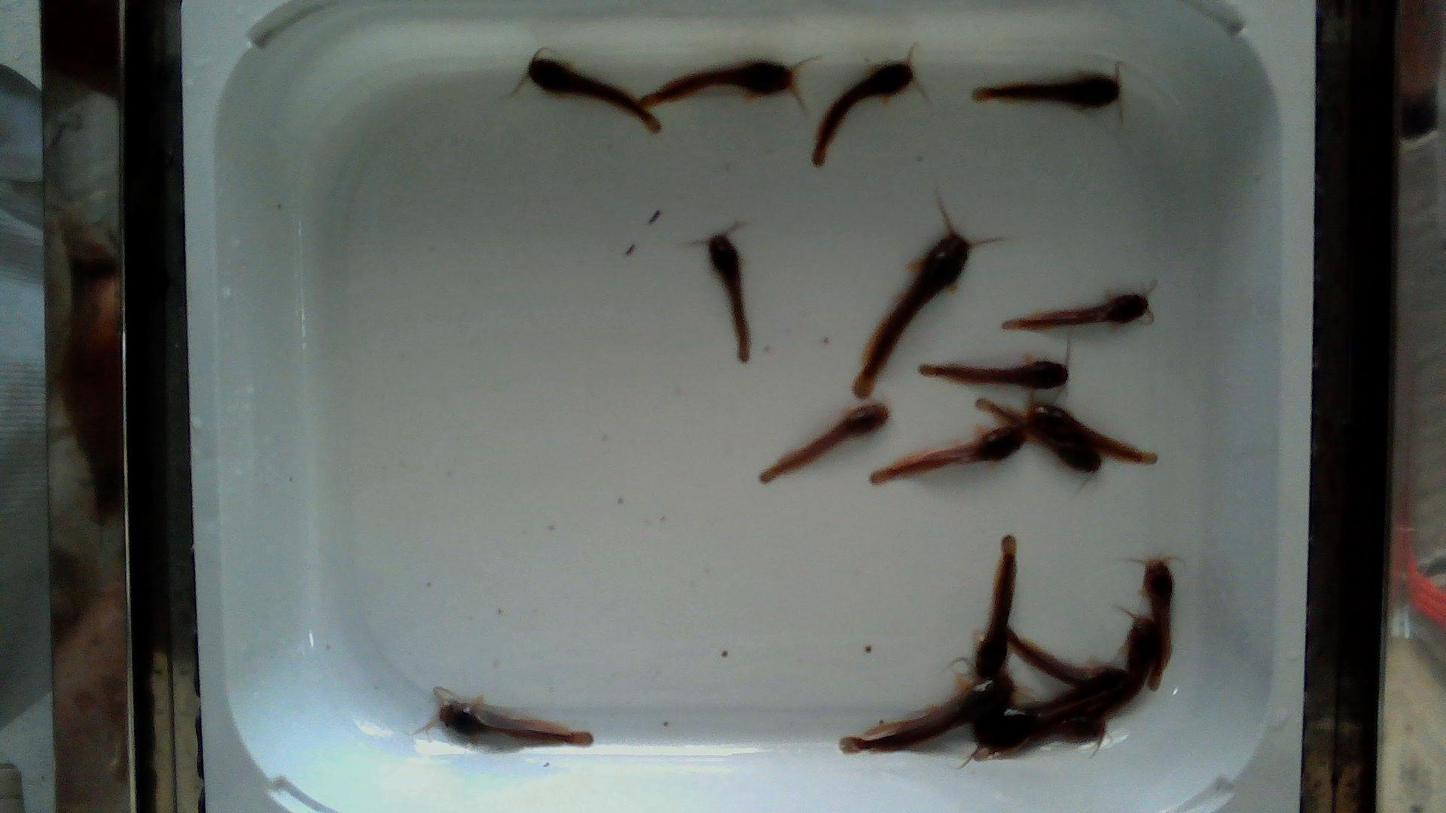lele: (853, 227, 974, 397), (837, 673, 1019, 752), (971, 676, 1131, 750), (813, 59, 913, 166), (527, 53, 659, 132), (760, 403, 887, 483), (975, 401, 1100, 474), (871, 427, 1024, 484), (1006, 627, 1127, 693), (1027, 403, 1157, 464), (1089, 617, 1158, 716), (644, 61, 795, 106), (440, 701, 592, 744), (975, 536, 1017, 677), (707, 232, 749, 362), (1002, 294, 1148, 330), (973, 75, 1119, 108), (1141, 562, 1173, 692), (920, 361, 1067, 388), (1015, 716, 1106, 752)
